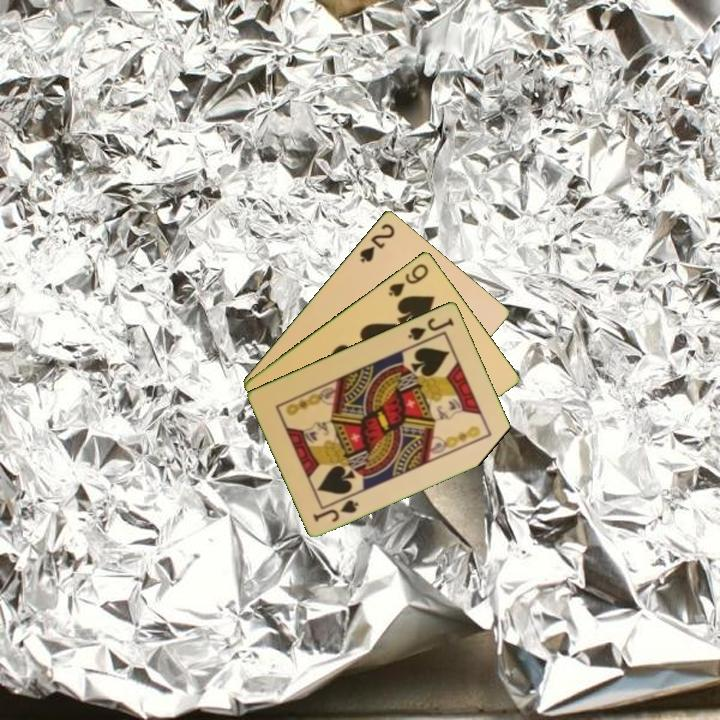2s: (356, 219, 398, 265)
9s: (385, 260, 431, 299)
Js: (404, 314, 457, 343), (309, 496, 362, 525)
